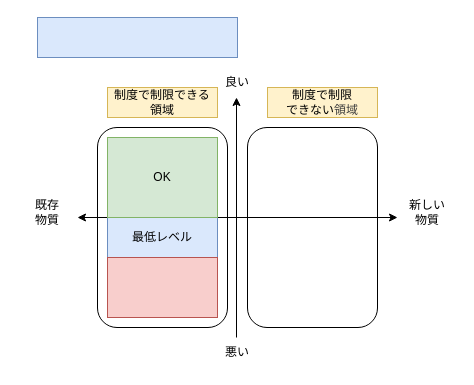
This 474x385 diagram has some shape labels left out. Here are the shapes that lost their labels. From the top down, the box of each, then its label:
(36, 16, 238, 58): 地図 ～安全の欲求～
(106, 256, 218, 318): NG
